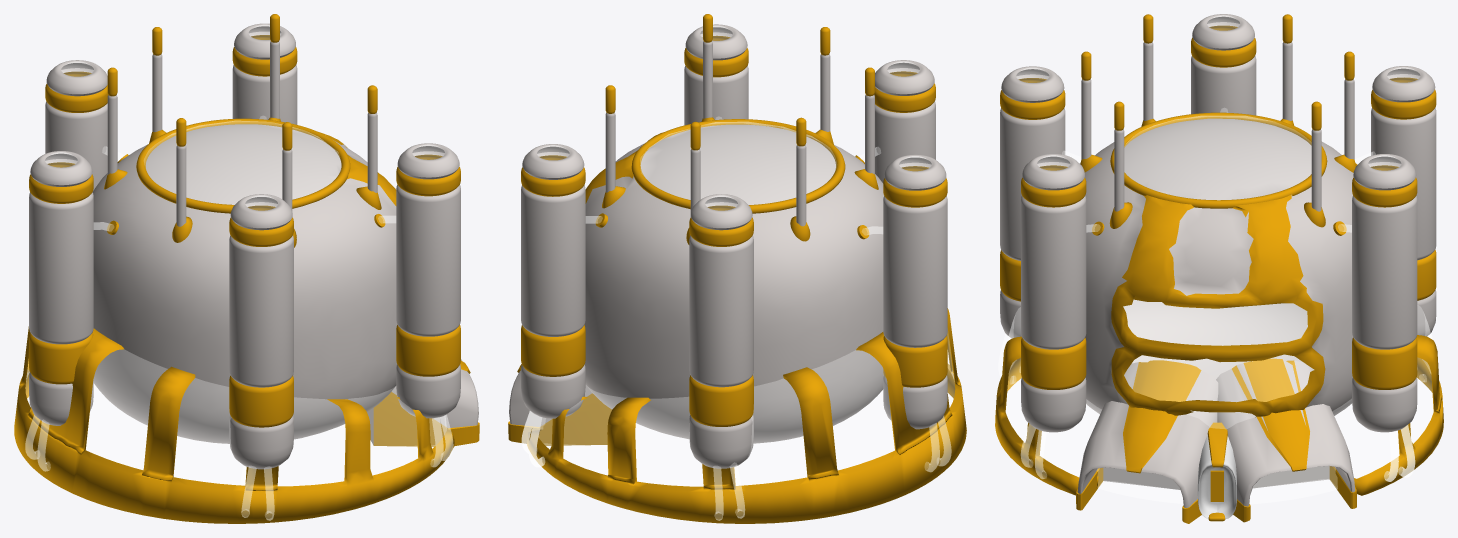
Rendered from bank.glb.
3 views of the same model, side by side, from view 1: azimuth 30°, elevation 25°; view 2: azimuth 150°, elevation 25°; view 3: azimuth 270°, elevation 25° (orthographic).
Visible parts, largest first — view 1: Cube, Roundabout.001, Speicher Zylinder.018, Speicher Zylinder.005, Speicher Zylinder.003, Cube.010, Speicher Zylinder.019, Speicher Zylinder.004, Portal1.001, Torus.004, Antenne 1.003, Antenne 1.001 (+4 smaller); view 2: Cube, Roundabout.001, Speicher Zylinder.019, Speicher Zylinder.004, Speicher Zylinder.003, Cube.010, Speicher Zylinder.018, Speicher Zylinder.005, Portal2.001, Torus.004, Antenne 1.006, Antenne 1.004 (+4 smaller); view 3: Cube, Roundabout.001, Speicher Zylinder.004, Speicher Zylinder.005, Portal1.001, Cube.010, Portal2.001, Speicher Zylinder.018, Speicher Zylinder.019, Speicher Zylinder.003, Torus.004, Cube.006 (+7 smaller).
Boxes of the visible parts, box(x1,y1,x2,y2) form: Cube: box(93, 124, 397, 443); Roundabout.001: box(14, 326, 454, 523); Speicher Zylinder.018: box(229, 194, 293, 469); Speicher Zylinder.005: box(396, 143, 460, 418); Speicher Zylinder.003: box(29, 151, 93, 425); Cube.010: box(144, 121, 341, 204); Speicher Zylinder.019: box(45, 60, 108, 190); Speicher Zylinder.004: box(232, 23, 297, 124); Portal1.001: box(367, 359, 479, 446); Torus.004: box(136, 118, 350, 213); Antenne 1.003: box(176, 118, 186, 226); Antenne 1.001: box(367, 85, 377, 192); Cube: box(584, 124, 883, 443); Roundabout.001: box(527, 308, 966, 523); Speicher Zylinder.019: box(689, 194, 753, 468); Speicher Zylinder.004: box(521, 144, 585, 418); Speicher Zylinder.003: box(883, 154, 947, 429); Cube.010: box(640, 122, 836, 204); Speicher Zylinder.018: box(874, 60, 935, 183); Speicher Zylinder.005: box(684, 24, 748, 125); Portal2.001: box(508, 364, 611, 445); Torus.004: box(631, 119, 845, 213); Antenne 1.006: box(796, 117, 806, 226); Antenne 1.004: box(605, 85, 615, 192); Cube: box(1085, 118, 1353, 428); Roundabout.001: box(995, 300, 1443, 503); Speicher Zylinder.004: box(1352, 154, 1417, 432); Speicher Zylinder.005: box(1021, 154, 1086, 432); Portal1.001: box(1076, 360, 1218, 523); Cube.010: box(1124, 116, 1311, 199); Portal2.001: box(1216, 358, 1356, 522); Speicher Zylinder.018: box(1000, 66, 1065, 338); Speicher Zylinder.019: box(1371, 66, 1436, 336); Speicher Zylinder.003: box(1191, 14, 1256, 115); Torus.004: box(1110, 112, 1327, 208); Cube.006: box(1197, 435, 1236, 519).
Size of the model in its own units: 6.91 by 5.89 by 6.56.
